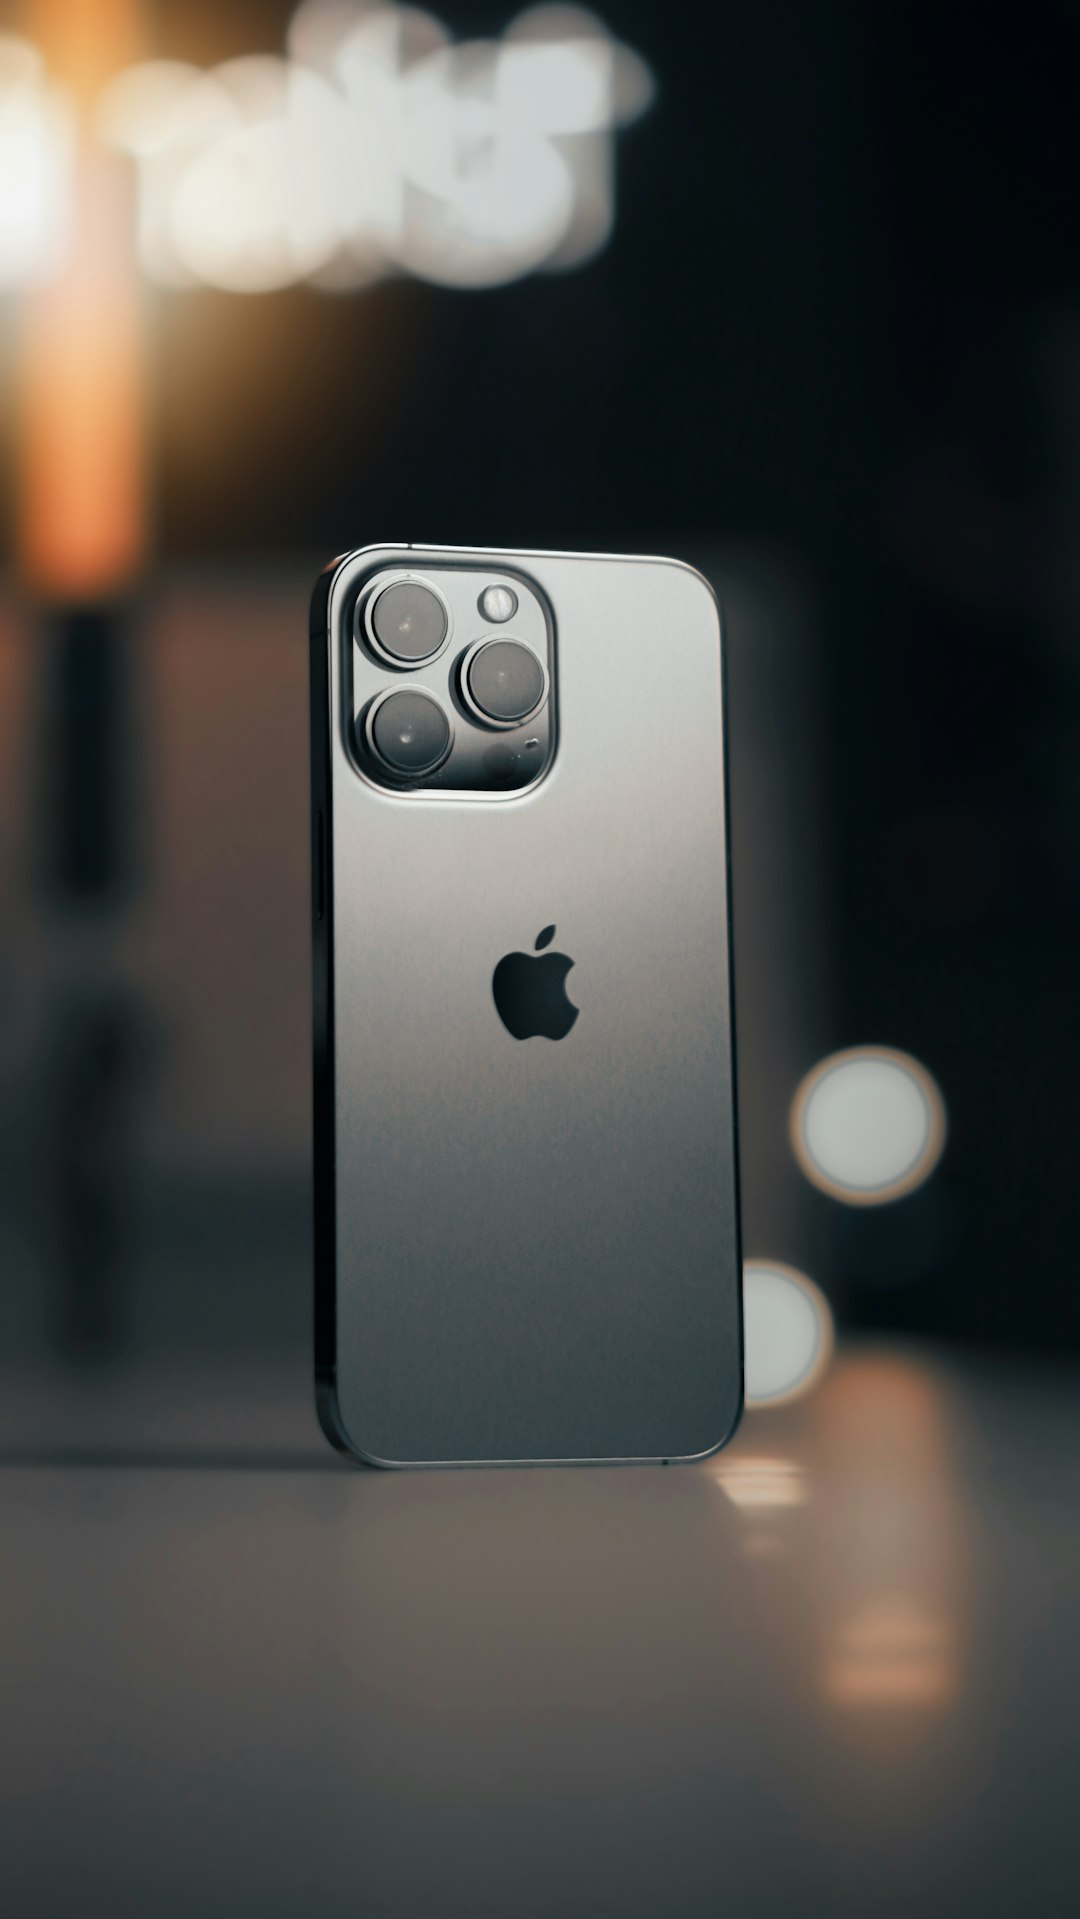phone: (320, 526, 744, 1474)
